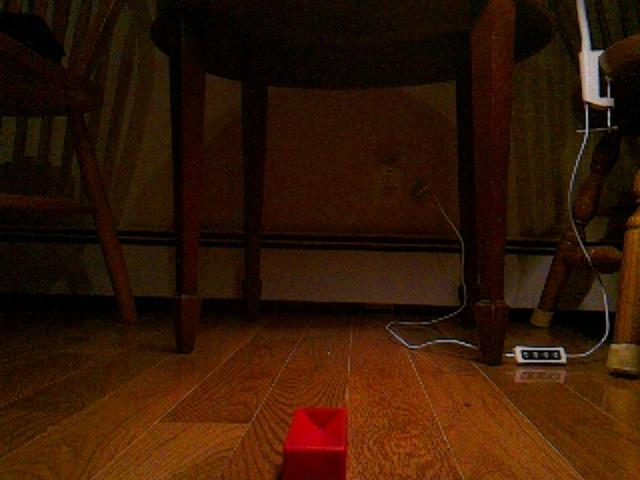red: (280, 405, 350, 480)
